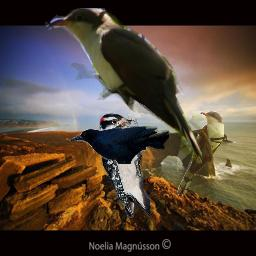Crow: (69, 126, 169, 164)
Cuckoo: (45, 8, 202, 164), (177, 111, 224, 198)
Woodpecker: (99, 113, 150, 218)
